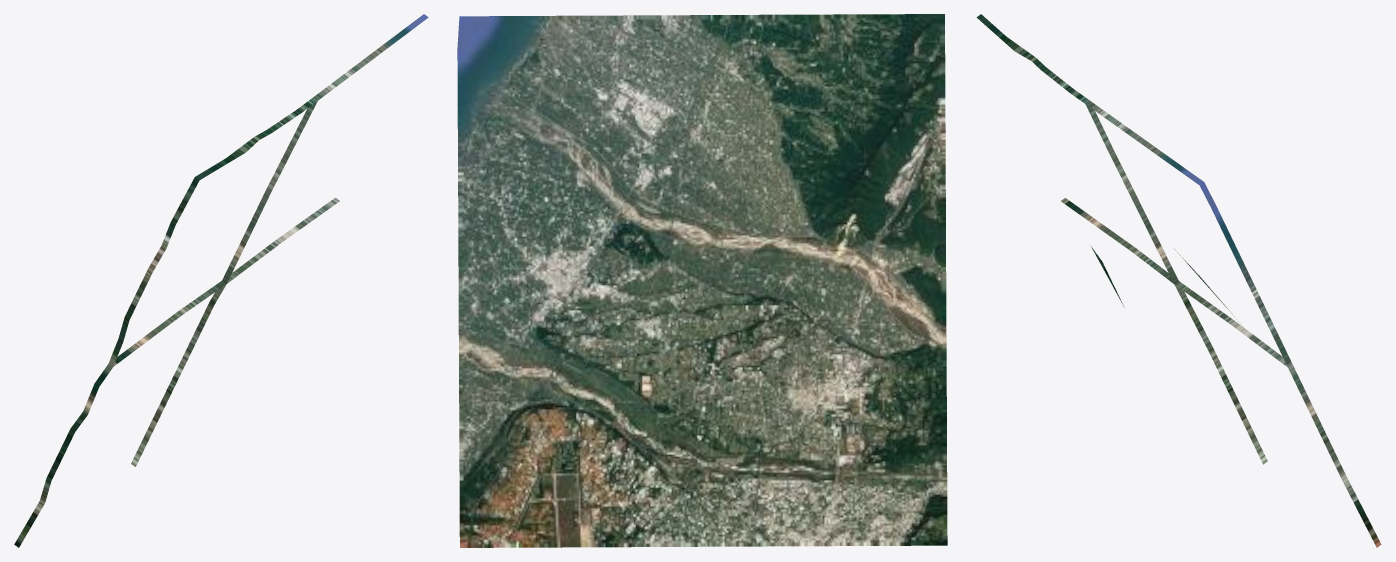
The picture shows the model from 3 angles, left to right: view 1: azimuth 30°, elevation 25°; view 2: azimuth 150°, elevation 25°; view 3: azimuth 270°, elevation 25°; orthographic projection. The views are drawn at different scales.
Size of the model in its own units: 19813 by 18056 by 16121.
Materials: 1 (1 with a texture image).
